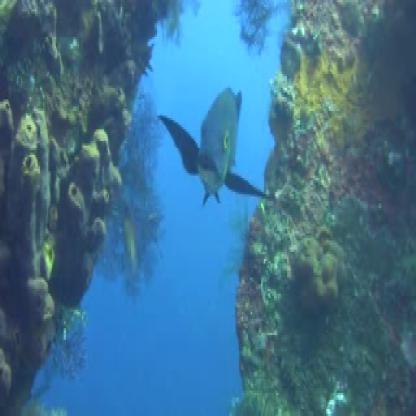Bio: (156, 53, 273, 220)
